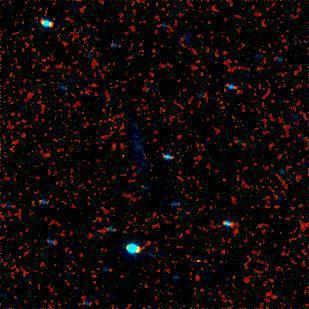star: (103, 144, 133, 174)
